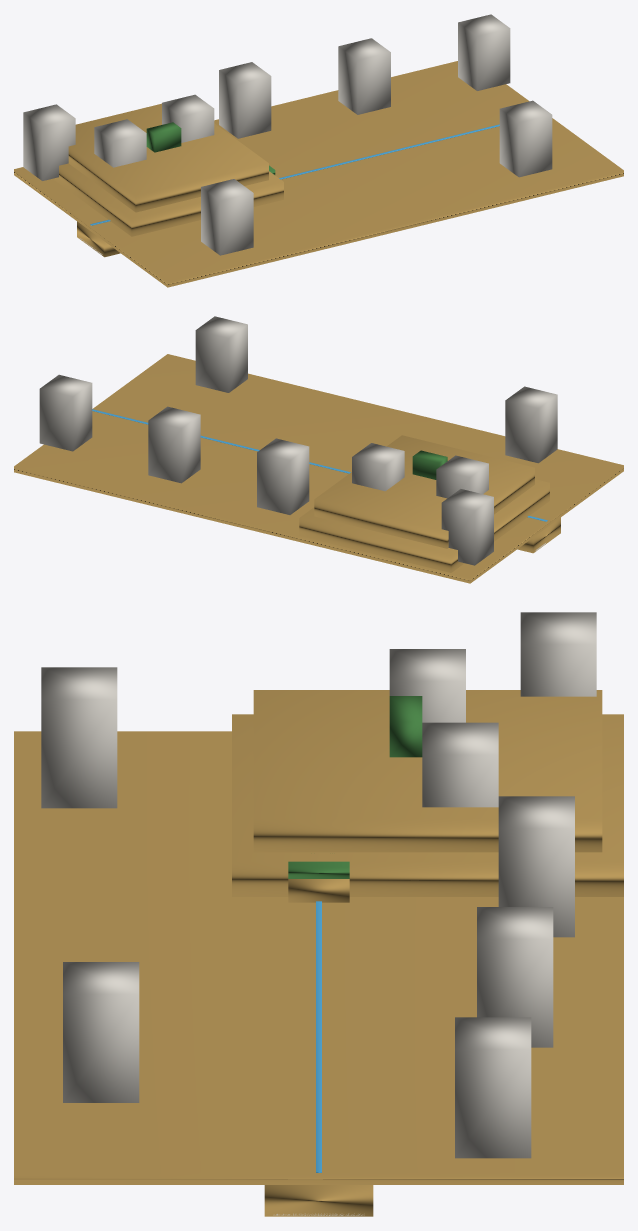
3 views of the same model, one above another, from view 1: azimuth 30°, elevation 25°; view 2: azimuth 150°, elevation 25°; view 3: azimuth 270°, elevation 25° (orthographic). The views are drawn at different scales.
Parts seen in each view (by area): view 1: granite_simplified, features_simplified; view 2: granite_simplified, features_simplified; view 3: granite_simplified, features_simplified.
Part boxes in pixels (<box>): granite_simplified: <box>14,61,623,287</box>; features_simplified: <box>23,14,552,255</box>; granite_simplified: <box>14,354,623,583</box>; features_simplified: <box>39,316,557,565</box>; granite_simplified: <box>14,690,623,1216</box>; features_simplified: <box>41,612,596,1215</box>.
Bounding box in the file's own units: 48 × 8.35 × 28.
2 materials, 2 textured.
